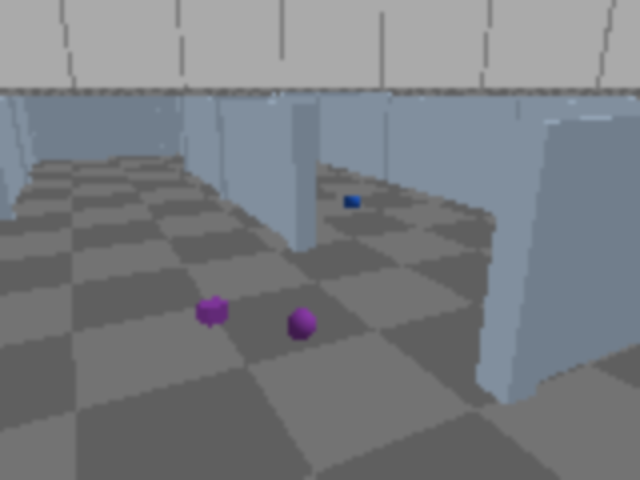puck: (283, 303, 318, 347), (196, 296, 229, 327), (344, 193, 360, 211)
